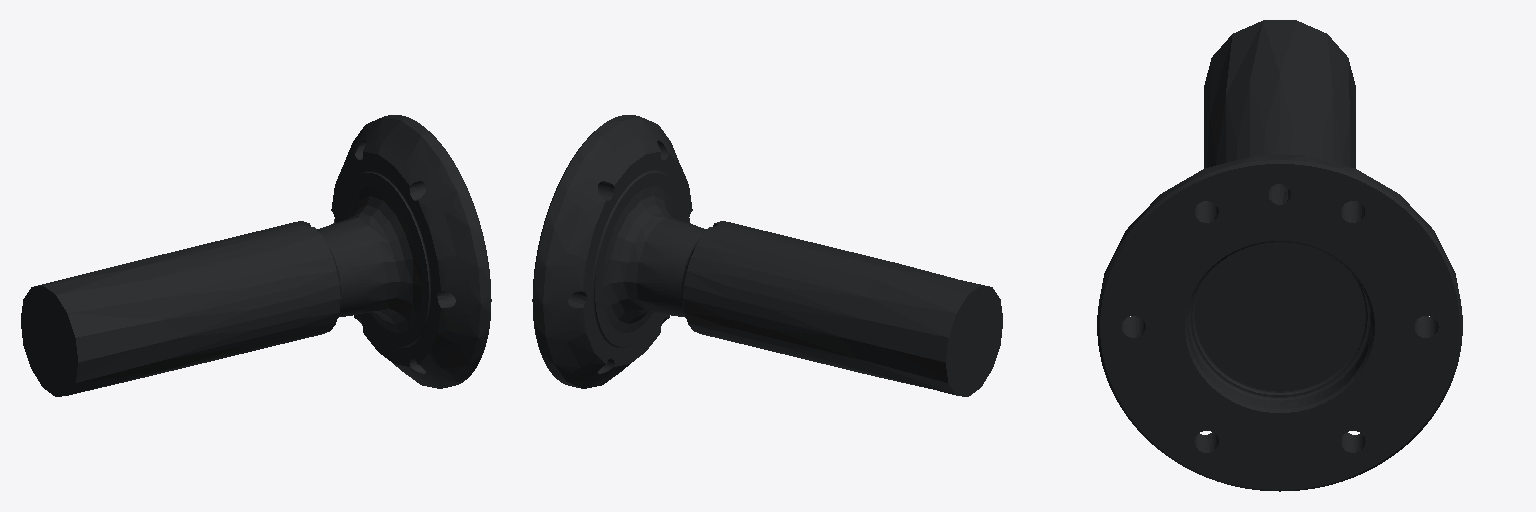
URDF robot description (abb_irb4600_40_255):
<?xml version="1.0" ?>
<!-- =================================================================================== -->
<!-- |    This document was autogenerated by xacro from abb_irb4600_40_255.xacro       | -->
<!-- |    EDITING THIS FILE BY HAND IS NOT RECOMMENDED                                 | -->
<!-- =================================================================================== -->
<robot name="abb_irb4600_40_255" xmlns:xacro="http://wiki.ros.org/xacro">
  <!-- Conversion were obtained from http://www.e-paint.co.uk/Lab_values.asp
       unless otherwise stated. -->
  <!-- link list -->
  <link name="base_link">
    <inertial>
      <origin xyz="0.0 0.0 0.0"/>
      <mass value="120.00000"/>
      <inertia ixx="-4.98000" ixy="-0.00000" ixz="2.70000" iyy="-5.95200" iyz="-0.00000" izz="0.82800"/>
    </inertial>
    <visual>
      <geometry>
        <mesh filename="package://abb_irb4600_40_255/meshes/visual/base_link.stl"/>
      </geometry>
      <material name="">
        <color rgba="0.7725490 0.7803922 0.7686275 1"/>
      </material>
    </visual>
    <collision>
      <geometry>
        <mesh filename="package://abb_irb4600_40_255/meshes/collision/base_link.stl"/>
      </geometry>
    </collision>
  </link>
  <link name="link_1">
    <inertial>
      <origin xyz="0.18000 0.00000 0.50000"/>
      <mass value="120.00000"/>
      <inertia ixx="-4.98000" ixy="-0.00000" ixz="2.70000" iyy="-5.95200" iyz="-0.00000" izz="0.82800"/>
    </inertial>
    <visual>
      <geometry>
        <mesh filename="package://abb_irb4600_40_255/meshes/visual/link_1.stl"/>
      </geometry>
      <material name="">
        <color rgba="0.7725490 0.7803922 0.7686275 1"/>
      </material>
    </visual>
    <collision>
      <geometry>
        <mesh filename="package://abb_irb4600_40_255/meshes/collision/link_1.stl"/>
      </geometry>
    </collision>
  </link>
  <link name="link_2">
    <inertial>
      <origin xyz="0.94000 0.08000 -0.34000"/>
      <mass value="120.00000"/>
      <inertia ixx="-2.96000" ixy="2.25600" ixz="-9.58800" iyy="-18.72601" iyz="-0.81600" izz="-14.95000"/>
    </inertial>
    <visual>
      <geometry>
        <mesh filename="package://abb_irb4600_40_255/meshes/visual/link_2.stl"/>
      </geometry>
      <material name="">
        <color rgba="0.7725490 0.7803922 0.7686275 1"/>
      </material>
    </visual>
    <collision>
      <geometry>
        <mesh filename="package://abb_irb4600_40_255/meshes/collision/link_2.stl"/>
      </geometry>
    </collision>
  </link>
  <link name="link_3">
    <inertial>
      <origin xyz="0.07000 -0.26600 0.08800"/>
      <mass value="120.00000"/>
      <inertia ixx="1.34500" ixy="-0.55860" ixz="0.18480" iyy="4.65068" iyz="-0.70224" izz="2.76032"/>
    </inertial>
    <visual>
      <geometry>
        <mesh filename="package://abb_irb4600_40_255/meshes/visual/link_3.stl"/>
      </geometry>
      <material name="">
        <color rgba="0.7725490 0.7803922 0.7686275 1"/>
      </material>
    </visual>
    <collision>
      <geometry>
        <mesh filename="package://abb_irb4600_40_255/meshes/collision/link_3.stl"/>
      </geometry>
    </collision>
  </link>
  <link name="link_4">
    <inertial>
      <origin xyz="0.00000 0.00000 1.00000"/>
      <mass value="40.00000"/>
      <inertia ixx="-8.00000" ixy="-0.00000" ixz="-0.00000" iyy="-8.00000" iyz="-0.00000" izz="0.48200"/>
    </inertial>
    <visual>
      <geometry>
        <mesh filename="package://abb_irb4600_40_255/meshes/visual/link_4.stl"/>
      </geometry>
      <material name="">
        <color rgba="0.7725490 0.7803922 0.7686275 1"/>
      </material>
    </visual>
    <collision>
      <geometry>
        <mesh filename="package://abb_irb4600_40_255/meshes/collision/link_4.stl"/>
      </geometry>
    </collision>
  </link>
  <link name="link_5">
    <inertial>
      <origin xyz="0.14000 0.00000 0.00000"/>
      <mass value="10.00000"/>
      <inertia ixx="0.04000" ixy="-0.00000" ixz="-0.00000" iyy="-0.00900" iyz="-0.00000" izz="-0.00400"/>
    </inertial>
    <visual>
      <geometry>
        <mesh filename="package://abb_irb4600_40_255/meshes/visual/link_5.stl"/>
      </geometry>
      <material name="">
        <color rgba="0.7725490 0.7803922 0.7686275 1"/>
      </material>
    </visual>
    <collision>
      <geometry>
        <mesh filename="package://abb_irb4600_40_255/meshes/collision/link_5.stl"/>
      </geometry>
    </collision>
  </link>
  <link name="link_6">
    <inertial>
      <origin xyz="0.08100 -0.09100 0.33200"/>
      <mass value="5.00000"/>
      <inertia ixx="-0.29652" ixy="-0.03686" ixz="0.09396" iyy="-0.28792" iyz="-0.10556" izz="-0.04621"/>
    </inertial>
    <visual>
      <geometry>
        <mesh filename="package://abb_irb4600_40_255/meshes/visual/link_6.stl"/>
      </geometry>
      <material name="">
        <color rgba="0.1882353 0.1960784 0.2039216 1"/>
      </material>
    </visual>
    <collision>
      <geometry>
        <mesh filename="package://abb_irb4600_40_255/meshes/collision/link_6.stl"/>
      </geometry>
    </collision>
  </link>
  <link name="tool0"/>
  <!-- end of link list -->
  <!-- joint list -->
  <joint name="joint_1" type="revolute">
    <parent link="base_link"/>
    <child link="link_1"/>
    <origin rpy="0 0 0 " xyz="0 0 0"/>
    <axis xyz="0 0 1"/>
    <limit effort="100000" lower="-3.14159" upper="3.14159" velocity="2.618"/>
    <dynamics damping="0.2" friction="0"/>
  </joint>
  <joint name="joint_2" type="revolute">
    <parent link="link_1"/>
    <child link="link_2"/>
    <origin rpy="0 -0 0 " xyz="0.175 0 0.495"/>
    <axis xyz="0 1 0"/>
    <limit effort="100000" lower="-1.5708" upper="2.61799" velocity="2.618"/>
    <dynamics damping="0.2" friction="0"/>
  </joint>
  <joint name="joint_3" type="revolute">
    <parent link="link_2"/>
    <child link="link_3"/>
    <origin rpy="0 -0 0 " xyz="0 0 1.095"/>
    <axis xyz="0 1 0"/>
    <limit effort="100000" lower="-3.14159" upper="1.309" velocity="2.618"/>
    <dynamics damping="0.2" friction="0"/>
  </joint>
  <joint name="joint_4" type="revolute">
    <parent link="link_3"/>
    <child link="link_4"/>
    <origin rpy="0 -0 0 " xyz="0.332 0 0.175"/>
    <axis xyz="1 0 0"/>
    <limit effort="10000" lower="-6.98132" upper="6.98132" velocity="6.2832"/>
    <dynamics damping="0.2" friction="0"/>
  </joint>
  <joint name="joint_5" type="revolute">
    <parent link="link_4"/>
    <child link="link_5"/>
    <origin rpy="0 -0 0 " xyz="0.939 0 0"/>
    <axis xyz="0 1 0"/>
    <limit effort="100000" lower="-2.18166" upper="2.0944" velocity="6.2832"/>
    <dynamics damping="0.2" friction="0"/>
  </joint>
  <joint name="joint_6" type="revolute">
    <parent link="link_5"/>
    <child link="link_6"/>
    <origin rpy="0 1.57076 0 " xyz="0.135 0 0"/>
    <axis xyz="0 0 1"/>
    <limit effort="100000" lower="-6.98132" upper="6.98132" velocity="7.854"/>
    <dynamics damping="0.2" friction="0"/>
  </joint>
  <joint name="joint_6-tool0" type="fixed">
    <parent link="link_6"/>
    <child link="tool0"/>
    <origin rpy="0 0 0" xyz="0 0 0"/>
  </joint>
  <!-- end of joint list -->
  <!-- ROS base_link to ABB World Coordinates transform -->
  <link name="base"/>
  <joint name="base_link-base" type="fixed">
    <origin rpy="0 0 0" xyz="0 0 0"/>
    <parent link="base_link"/>
    <child link="base"/>
  </joint>
</robot>

--- Facts derived from the render (not from the file) ---
The picture shows the robot from 3 angles, left to right: view 1: azimuth 30°, elevation 25°; view 2: azimuth 150°, elevation 25°; view 3: azimuth 270°, elevation 25°; orthographic projection.
Model abb_irb4600_40_255 with 9 links and 8 joints (6 revolute, 2 fixed), rooted at base_link, posed all joints at 0.
Links seen in each view (by area): view 1: link_6; view 2: link_6; view 3: link_6.
Link boxes in pixels (x1=…): link_6: x1=21, y1=115, x2=491, y2=396; link_6: x1=532, y1=115, x2=1002, y2=396; link_6: x1=1097, y1=20, x2=1462, y2=491.
Size in the robot's own frame: 0.1935 by 0.125 by 0.125 metres.
Meshes: 7 distinct files referenced, 1 mesh visuals loaded (1 binary STL); not drawn: 6 (reference not matched to a file when rendering).